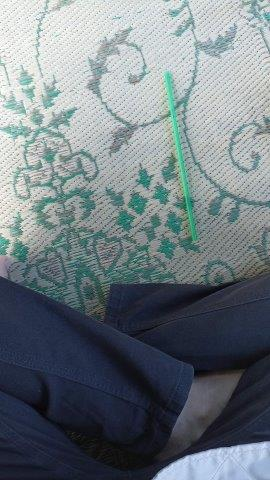sedotan: (164, 72, 197, 240)
